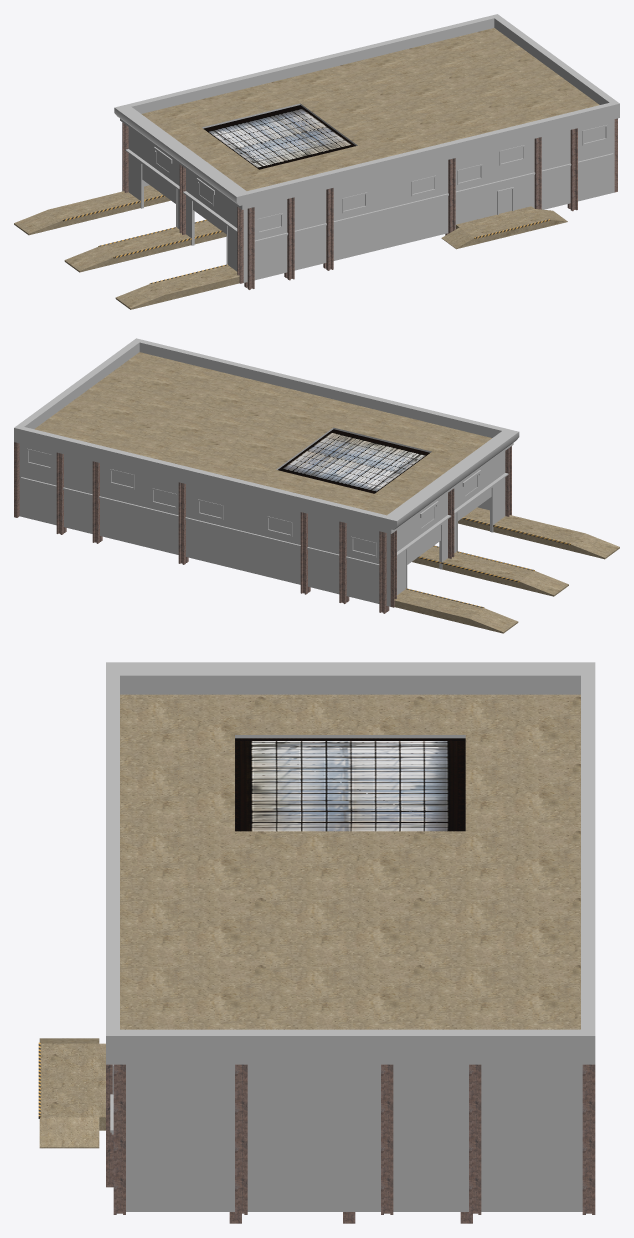
Rendered from LoadingBay.fbx.
The picture shows the model from 3 angles, top to bottom: view 1: azimuth 30°, elevation 25°; view 2: azimuth 150°, elevation 25°; view 3: azimuth 270°, elevation 25°; orthographic projection. The views are drawn at different scales.
Parts seen in each view (by area): view 1: LoadingBayWalls; view 2: LoadingBayWalls; view 3: LoadingBayWalls.
Boxes of the visible parts, left/top/right/bottom form: LoadingBayWalls: left=14, top=14, right=619, bottom=309; LoadingBayWalls: left=14, top=338, right=619, bottom=633; LoadingBayWalls: left=38, top=662, right=595, bottom=1223.
Size of the model in its own units: 1682 by 318 by 833.
